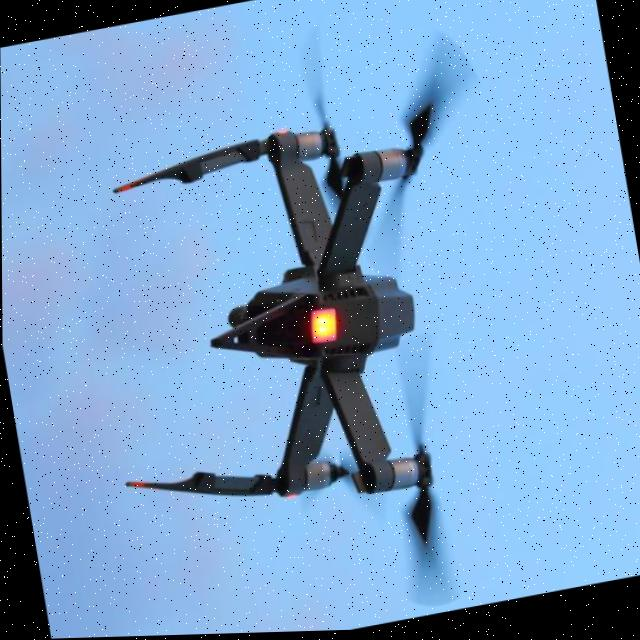drones: (3, 0, 605, 640)
